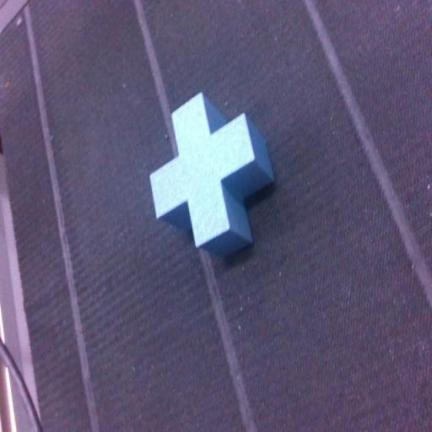cross: (151, 94, 273, 256)
